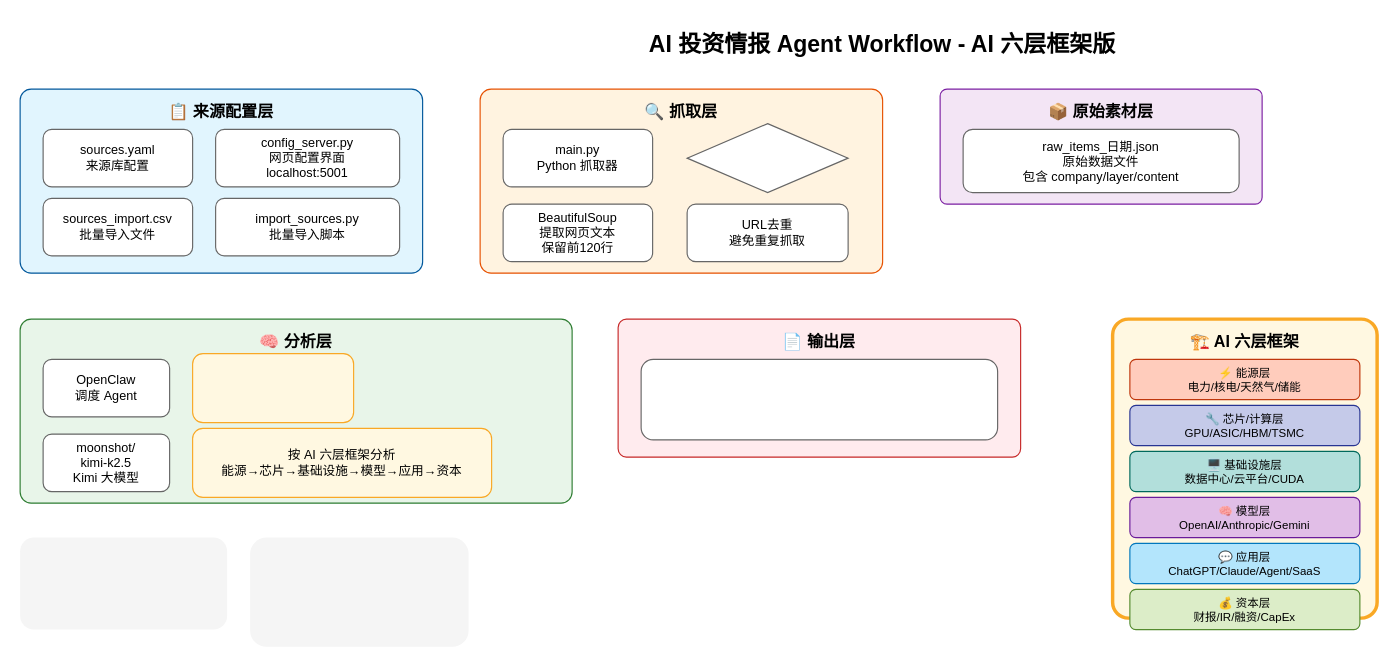
Some shapes in this 1398 by 666 pixel diagram are drawn without their labels. The centre of each missing label's shape, as x and y in pixels:
"daily_report.md 六层分析 Prompt 严禁编造/信息不足标注" belongs at (x=272, y=387).
"priority=high? 筛选高优先级" belongs at (x=767, y=157).
"reports/日期.md Markdown 日报 含今日总览/重大事件/六层分析/投资观察" belongs at (x=819, y=399).
"核心分工 Python = 抓资料 OpenClaw = 调度 Agent Kimi = 分析判断 Markdown = 输出日报" belongs at (x=123, y=583).
"系统状态 ✅ 来源配置页面 ✅ 批量导入 ✅ 六层框架 ✅ OpenClaw + Kimi ⏳ 一键运行脚本（待完成）" belongs at (x=359, y=591).
